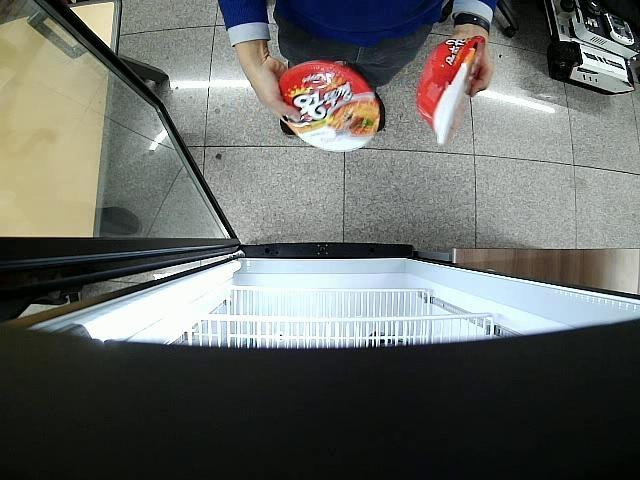10_wangTtukkeong: (280, 58, 380, 152), (418, 35, 484, 145)
